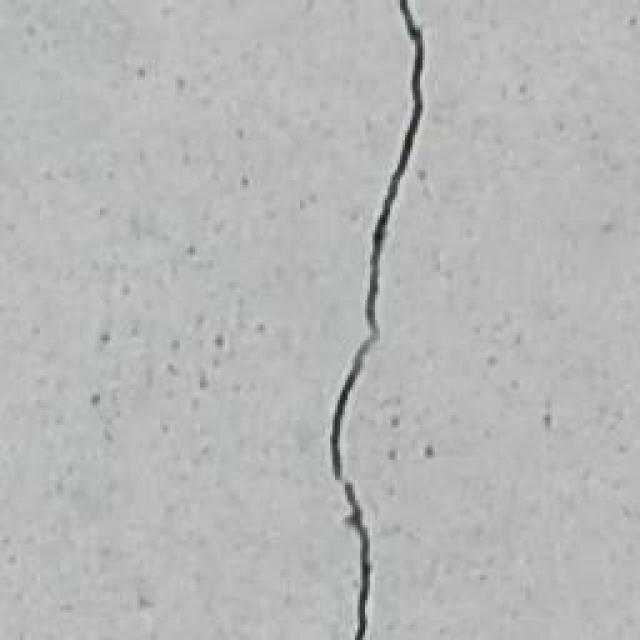concrete-crack: (330, 0, 425, 640)
